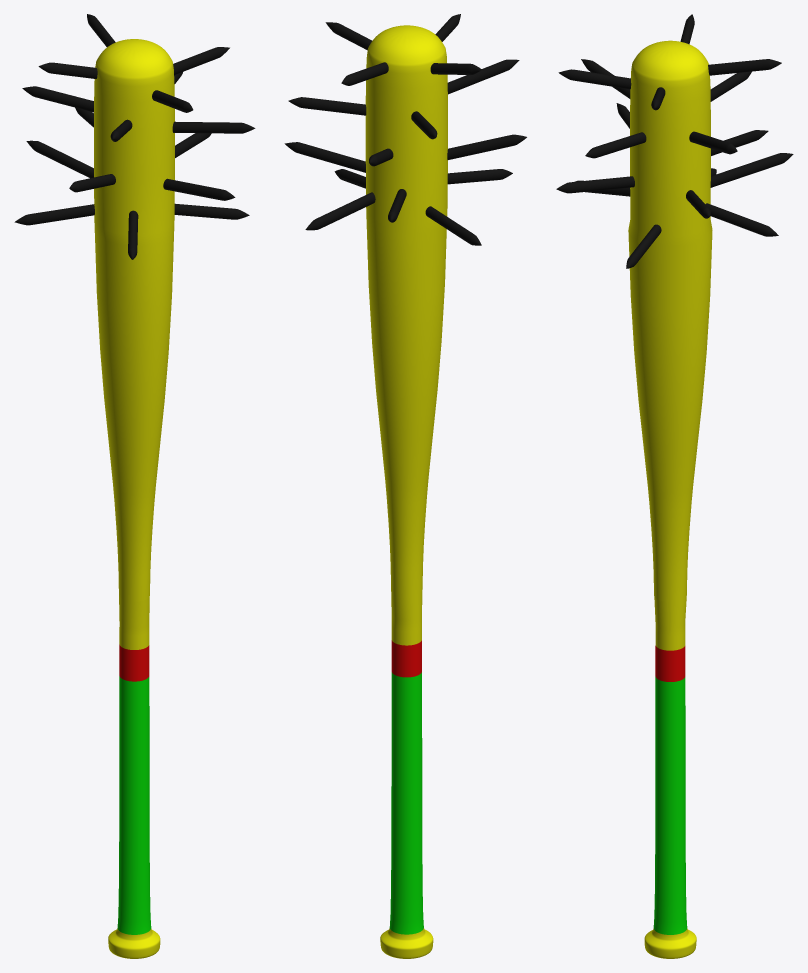
The model's file is SpikeBat2.fbx.
3 renders of one model, left to right at view 1: azimuth 30°, elevation 25°; view 2: azimuth 150°, elevation 25°; view 3: azimuth 270°, elevation 25°, orthographic.
Visible parts, largest first — view 1: pCylinder1, pCylinder17, pCylinder13, pCylinder11, pCylinder7, pCylinder15, pCylinder9, pCylinder5, pCylinder3; view 2: pCylinder1, pCylinder8, pCylinder6, pCylinder14, pCylinder12, pCylinder16, pCylinder10, pCylinder13, pCylinder5, pCylinder4; view 3: pCylinder1, pCylinder9, pCylinder7, pCylinder12, pCylinder4, pCylinder2, pCylinder17, pCylinder14, pCylinder11.
Boxes of the visible parts, box(x1,y1,x2,y2) form: pCylinder1: box(94, 39, 174, 958); pCylinder17: box(172, 121, 255, 133); pCylinder13: box(14, 204, 94, 225); pCylinder11: box(174, 203, 249, 219); pCylinder7: box(163, 178, 235, 200); pCylinder15: box(22, 86, 93, 112); pCylinder9: box(26, 140, 93, 178); pCylinder5: box(38, 62, 97, 78); pCylinder3: box(173, 47, 229, 74); pCylinder1: box(365, 25, 447, 958); pCylinder8: box(284, 142, 365, 172); pCylinder6: box(447, 134, 526, 159); pCylinder14: box(288, 97, 366, 115); pCylinder12: box(305, 192, 375, 230); pCylinder16: box(447, 59, 519, 94); pCylinder10: box(447, 169, 512, 184); pCylinder13: box(425, 206, 481, 245); pCylinder5: box(430, 63, 481, 74); pCylinder4: box(341, 62, 388, 85); pCylinder1: box(628, 40, 712, 958); pCylinder9: box(710, 153, 793, 187); pCylinder7: box(556, 176, 634, 193); pCylinder12: box(705, 203, 778, 236); pCylinder4: box(708, 59, 781, 75); pCylinder2: box(558, 69, 631, 89); pCylinder17: box(585, 132, 646, 158); pCylinder14: box(689, 131, 737, 154); pCylinder11: box(626, 224, 661, 268).
Size of the model in its own units: 26.49 by 116 by 27.59.
